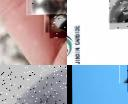ironball: (0, 65, 67, 103), (49, 0, 67, 37), (26, 0, 67, 14), (109, 0, 127, 29)
